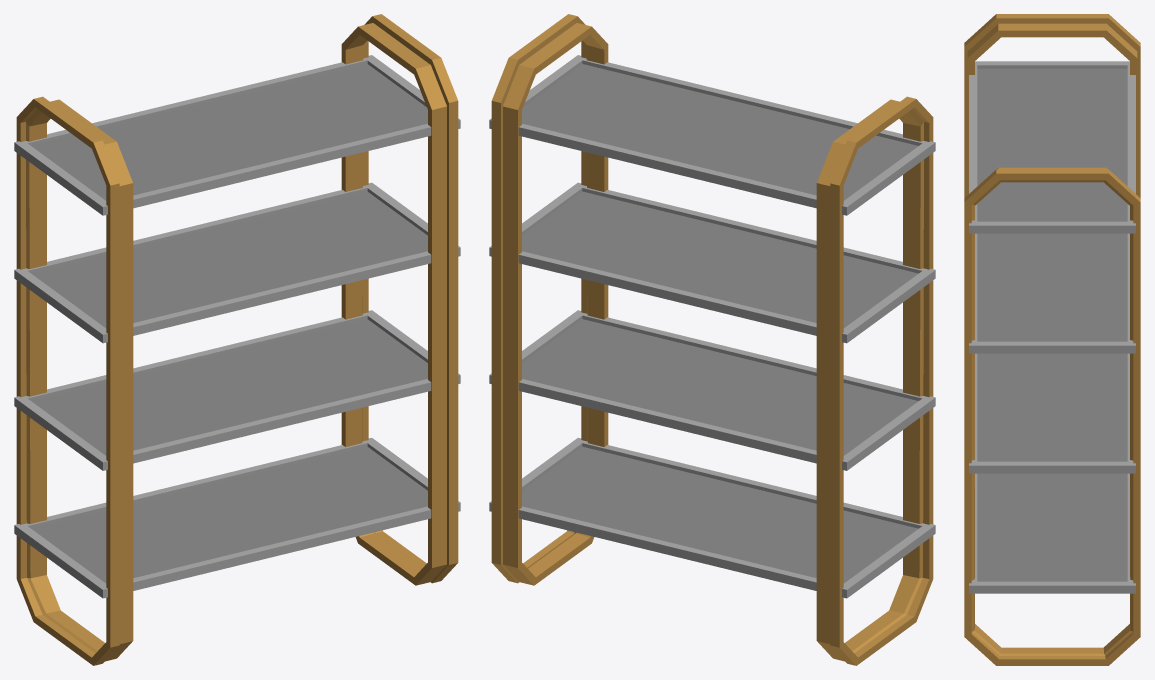
File: Props_Shelf_GD.glb
3 views of the same model, side by side, from view 1: azimuth 30°, elevation 25°; view 2: azimuth 150°, elevation 25°; view 3: azimuth 270°, elevation 25° (orthographic). The views are drawn at different scales.
Parts seen in each view (by area): view 1: Props_Shelf; view 2: Props_Shelf; view 3: Props_Shelf.
Boxes of the visible parts, x1=… form: Props_Shelf: x1=14, y1=14, x2=460, y2=665; Props_Shelf: x1=489, y1=14, x2=935, y2=665; Props_Shelf: x1=964, y1=14, x2=1140, y2=665.
Bounding box in the file's own units: 13.42 × 18.75 × 6.08.
